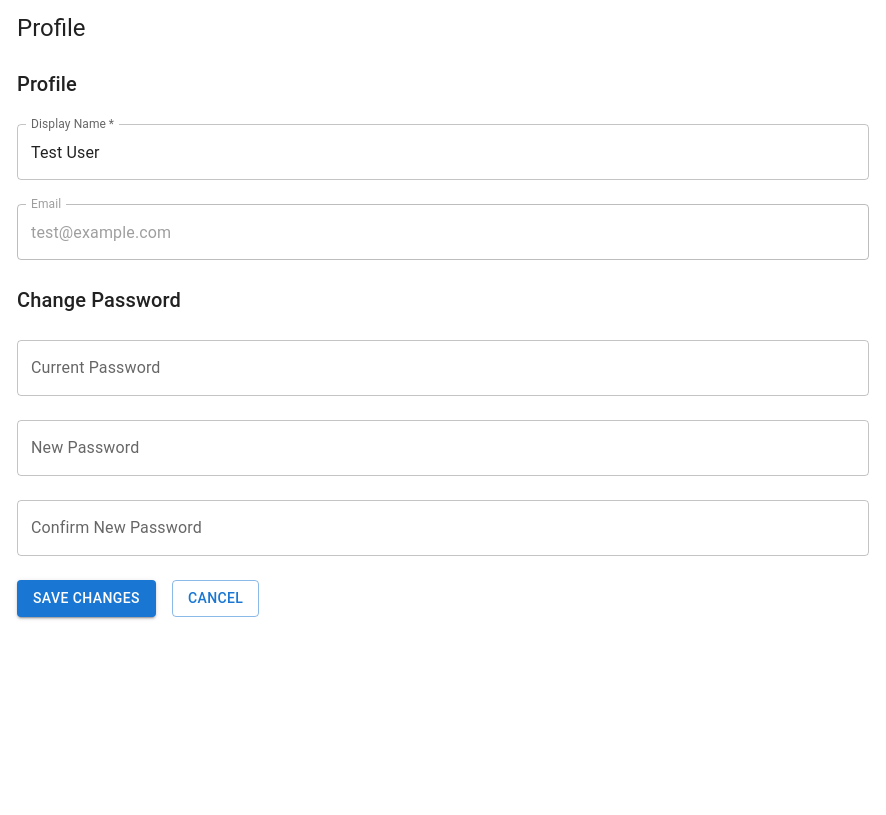
Scenario: ProfilePage › Form Submission › should handle submission errors
The width and height of the screenshot is (886, 815).
Replace the text in the field labelled "Display Name *" with "Updated Name" at (443, 152), box top-left (17, 124), bottom-right (869, 180)
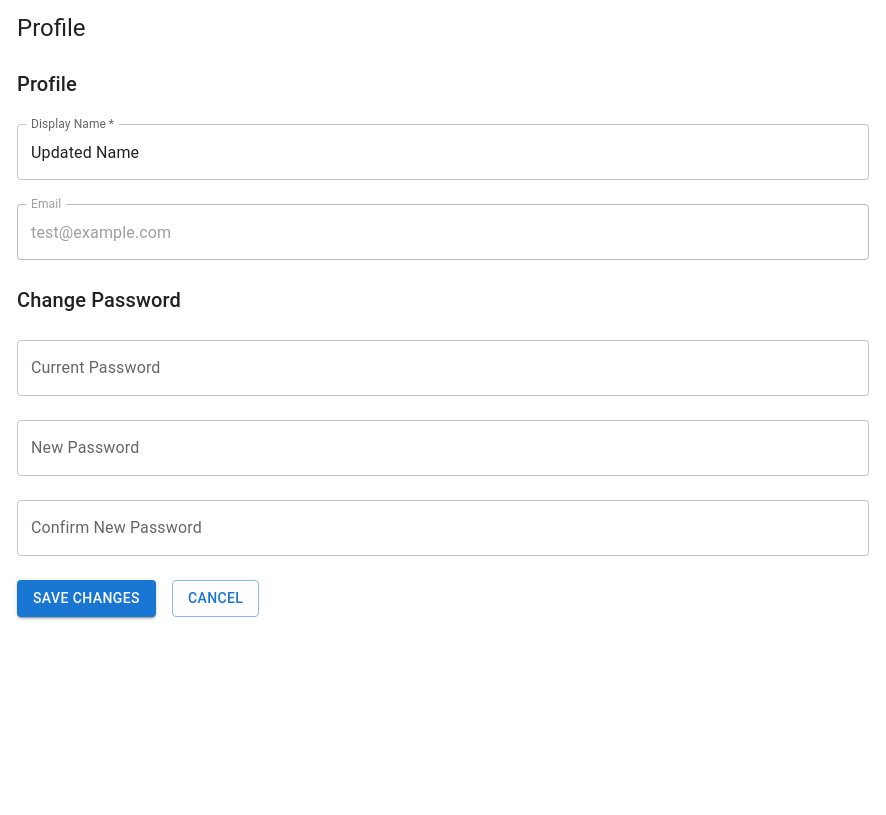
Click the button "Save Changes" at (86, 598), box top-left (17, 580), bottom-right (156, 616)
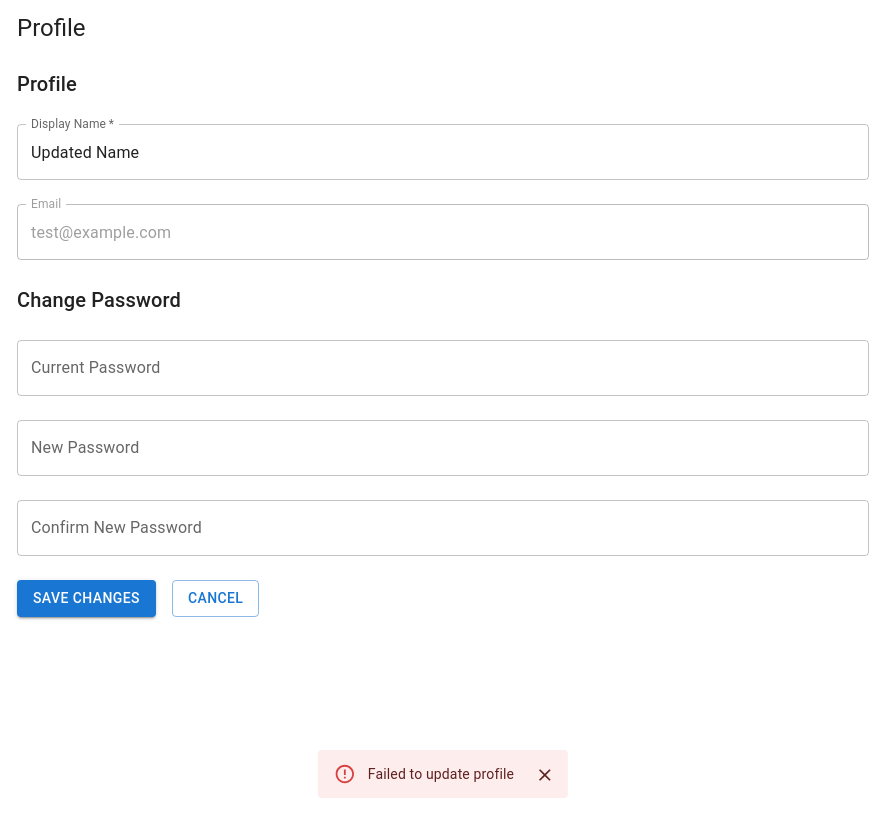
Now the text "Failed to update profile" is shown, box top-left (368, 766), bottom-right (514, 782)
